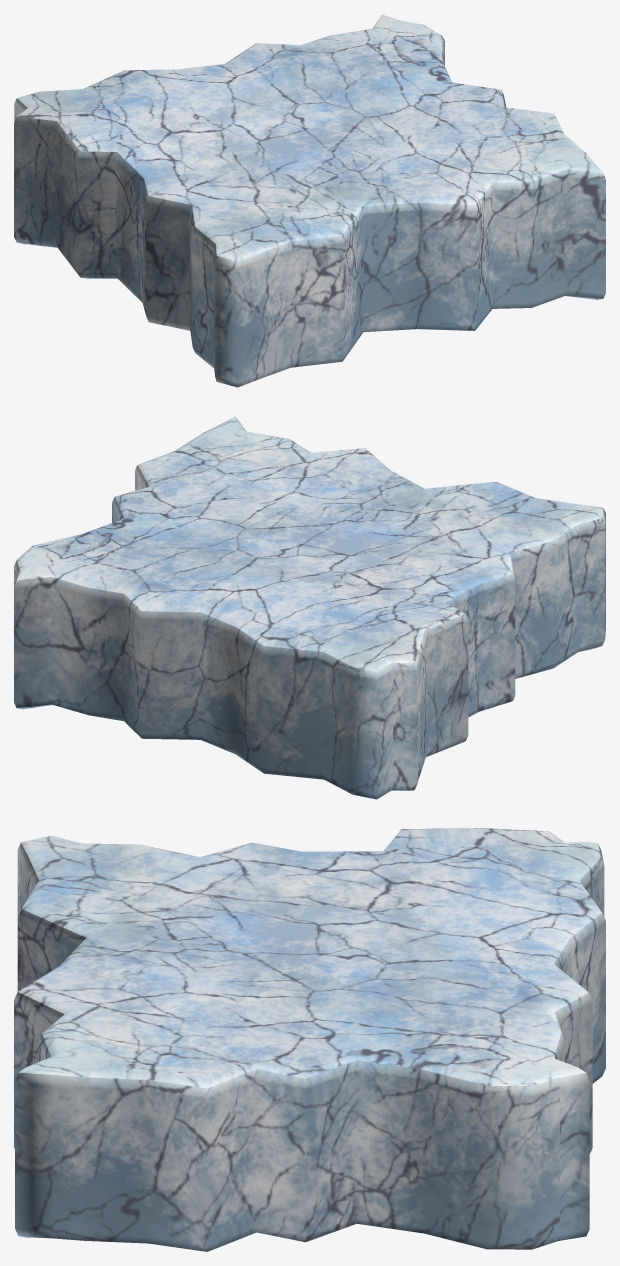
Rendered from 5_stage.fbx.
3 views of the same model, one above another, from view 1: azimuth 30°, elevation 25°; view 2: azimuth 150°, elevation 25°; view 3: azimuth 270°, elevation 25° (orthographic). The views are drawn at different scales.
Parts seen in each view (by area): view 1: pCube327; view 2: pCube327; view 3: pCube327.
Part boxes in pixels (x1=…): pCube327: x1=14, y1=14, x2=605, y2=387; pCube327: x1=14, y1=416, x2=605, y2=799; pCube327: x1=14, y1=828, x2=605, y2=1251.
Bounding box in the file's own units: 6.55 × 2.17 × 6.3.
Materials: 1 (1 with a texture image).
